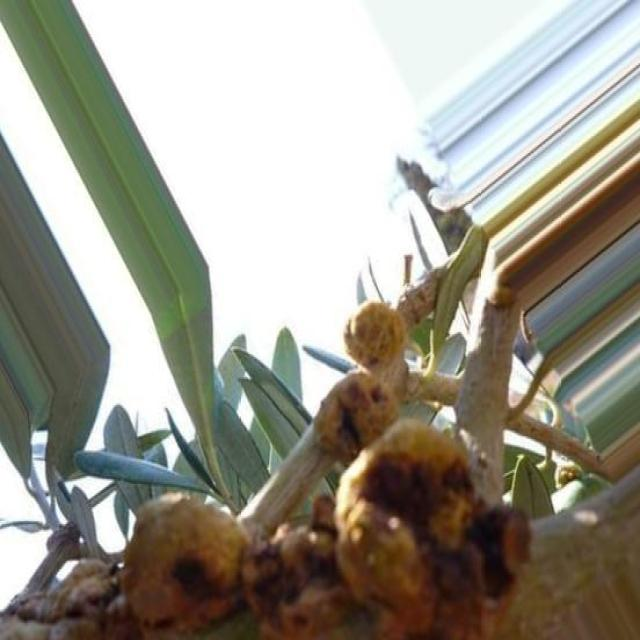Tuberculosis: (122, 419, 530, 638), (313, 301, 408, 468)
